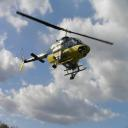helicopter: (16, 12, 115, 81)
